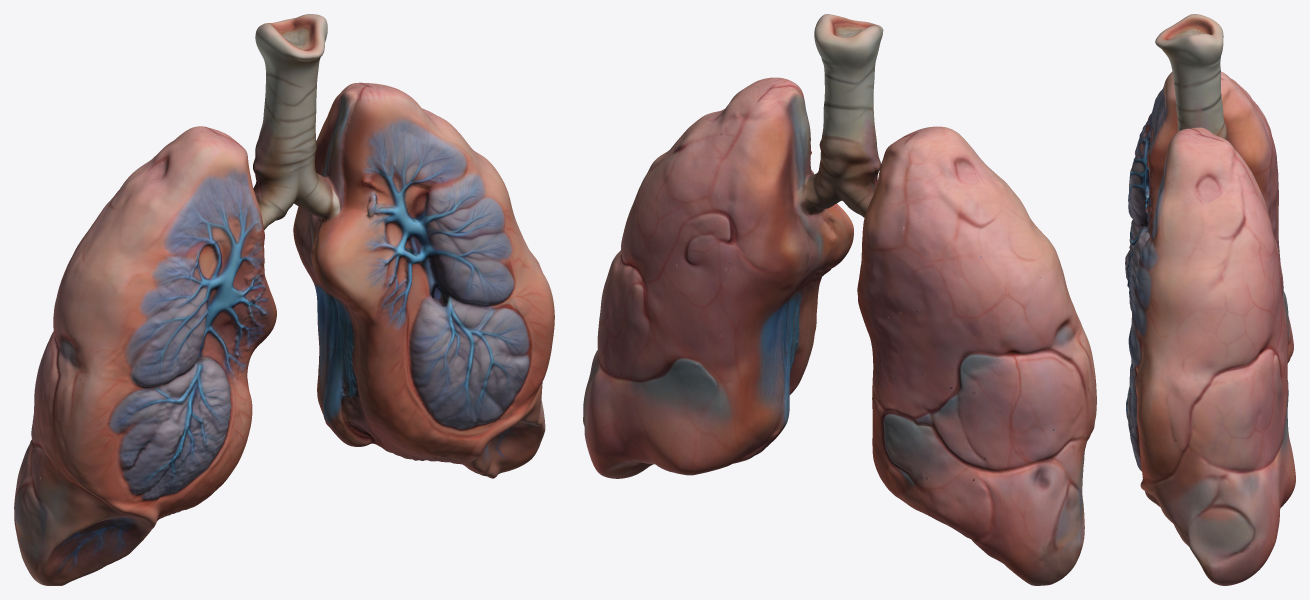
Rendered from lungs.glb.
3 renders of one model, left to right at view 1: azimuth 30°, elevation 25°; view 2: azimuth 150°, elevation 25°; view 3: azimuth 270°, elevation 25°, orthographic. The views are drawn at different scales.
Bounding box in the file's own units: 2 × 1.98 × 0.6609.
Materials: 1 (1 with a texture image).
